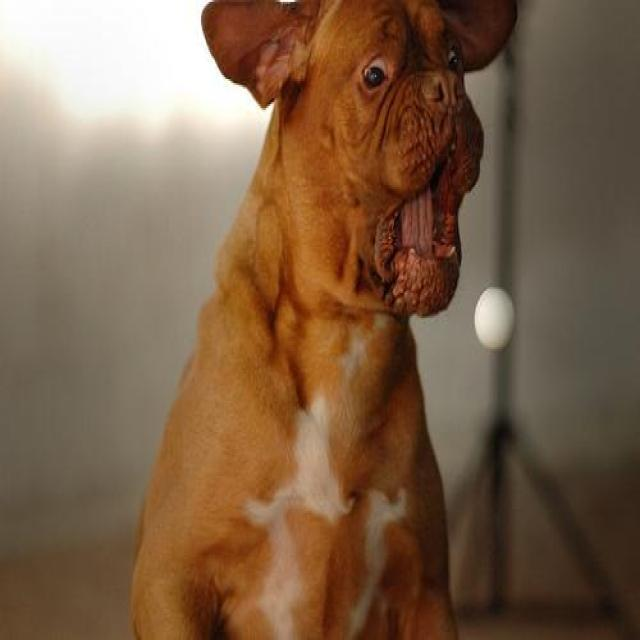ping-pong-ball: (474, 284, 516, 352)
